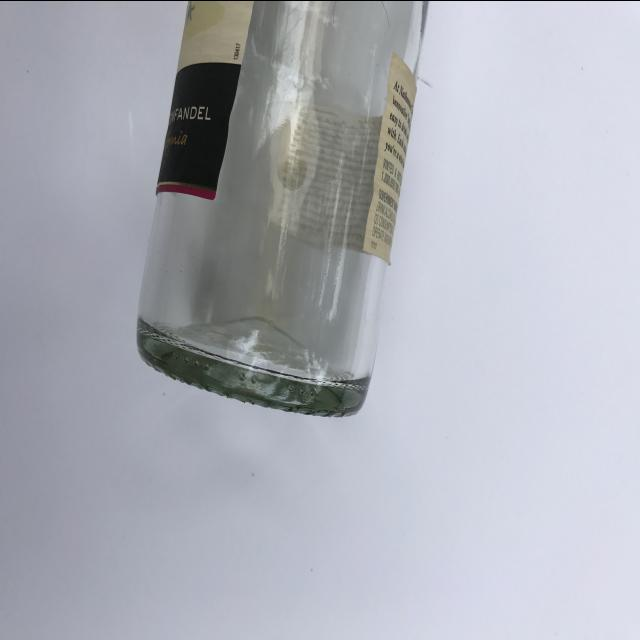glass: (132, 0, 438, 425)
